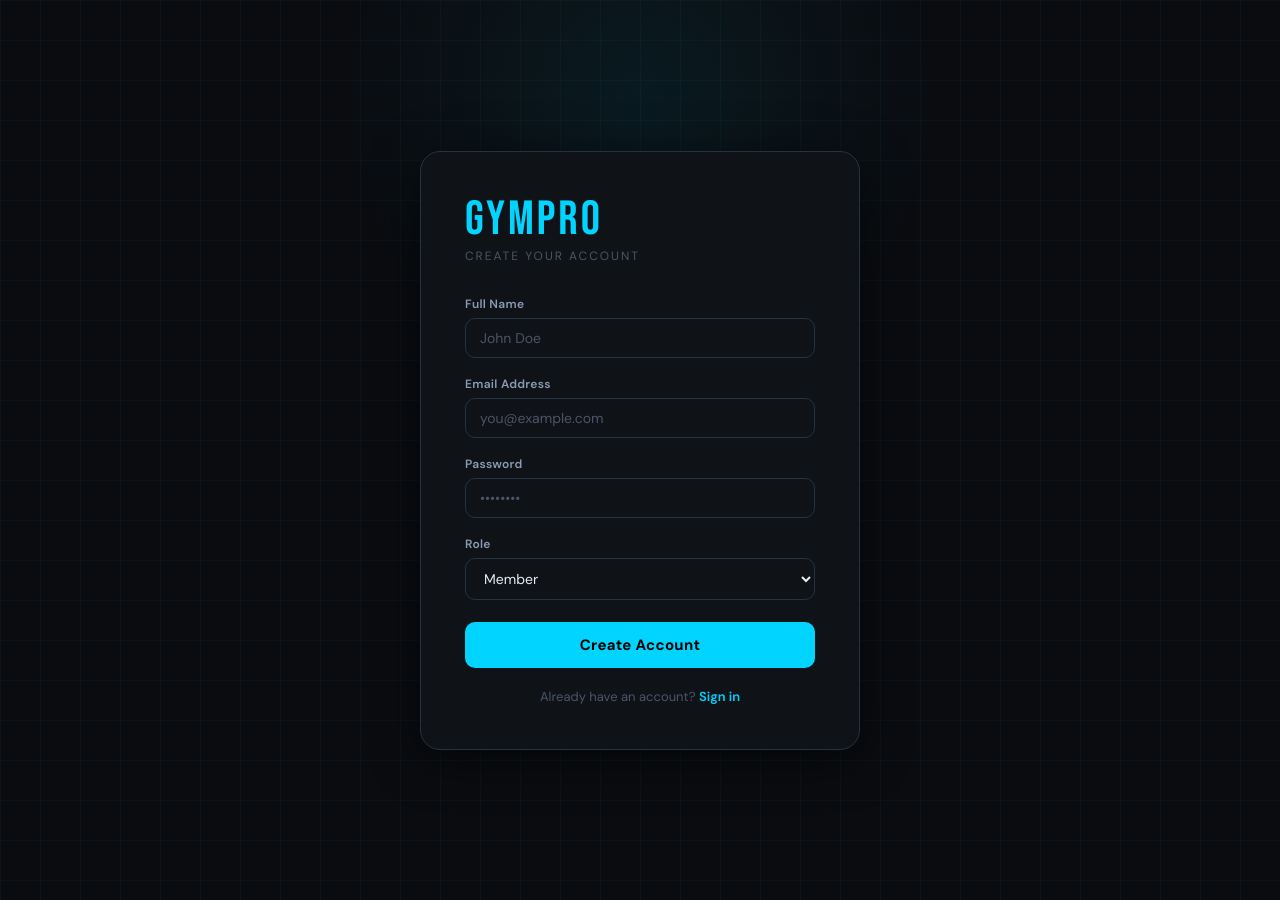
Test case: Register › shows success message on successful registration
The width and height of the screenshot is (1280, 900).
Type "Alice" into the field with placeholder "John Doe". click: (640, 338)
box: [465,318,815,358]
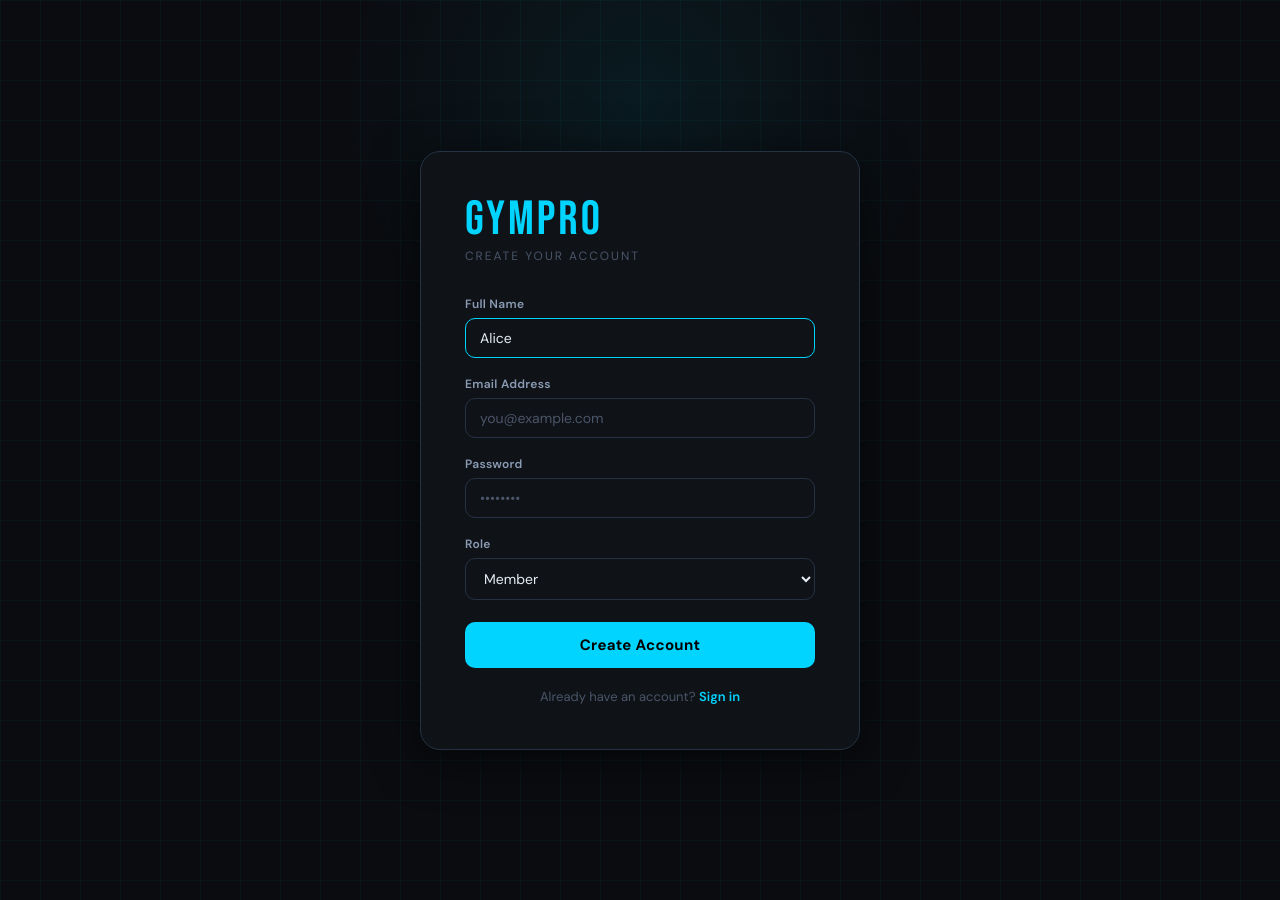
Type "alice@gym.com" into the field with placeholder "you@example.com". click: (640, 418)
box: [465,398,815,438]
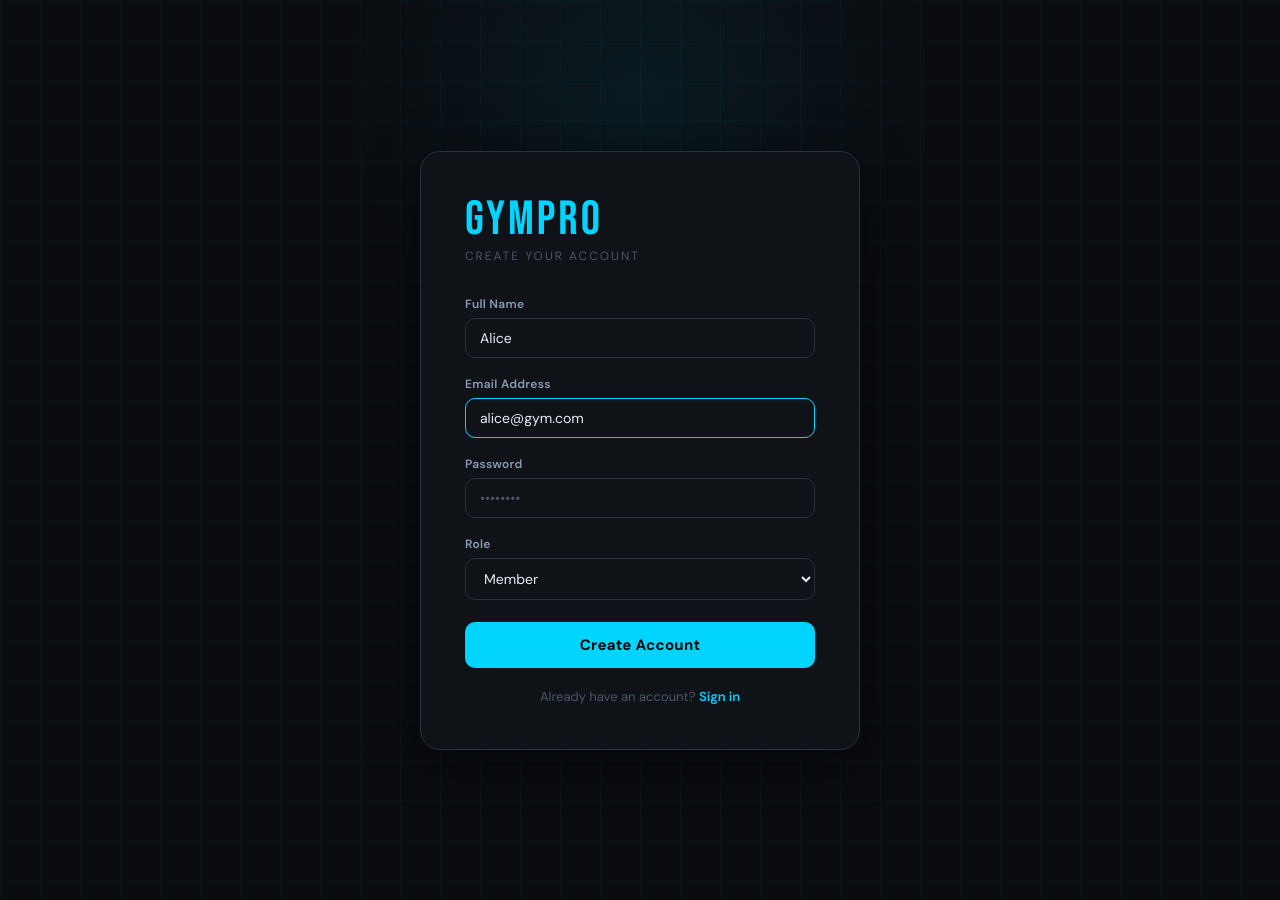
Type "pass123" into the password field with placeholder "••••••••". click: (640, 498)
box: [465,478,815,518]
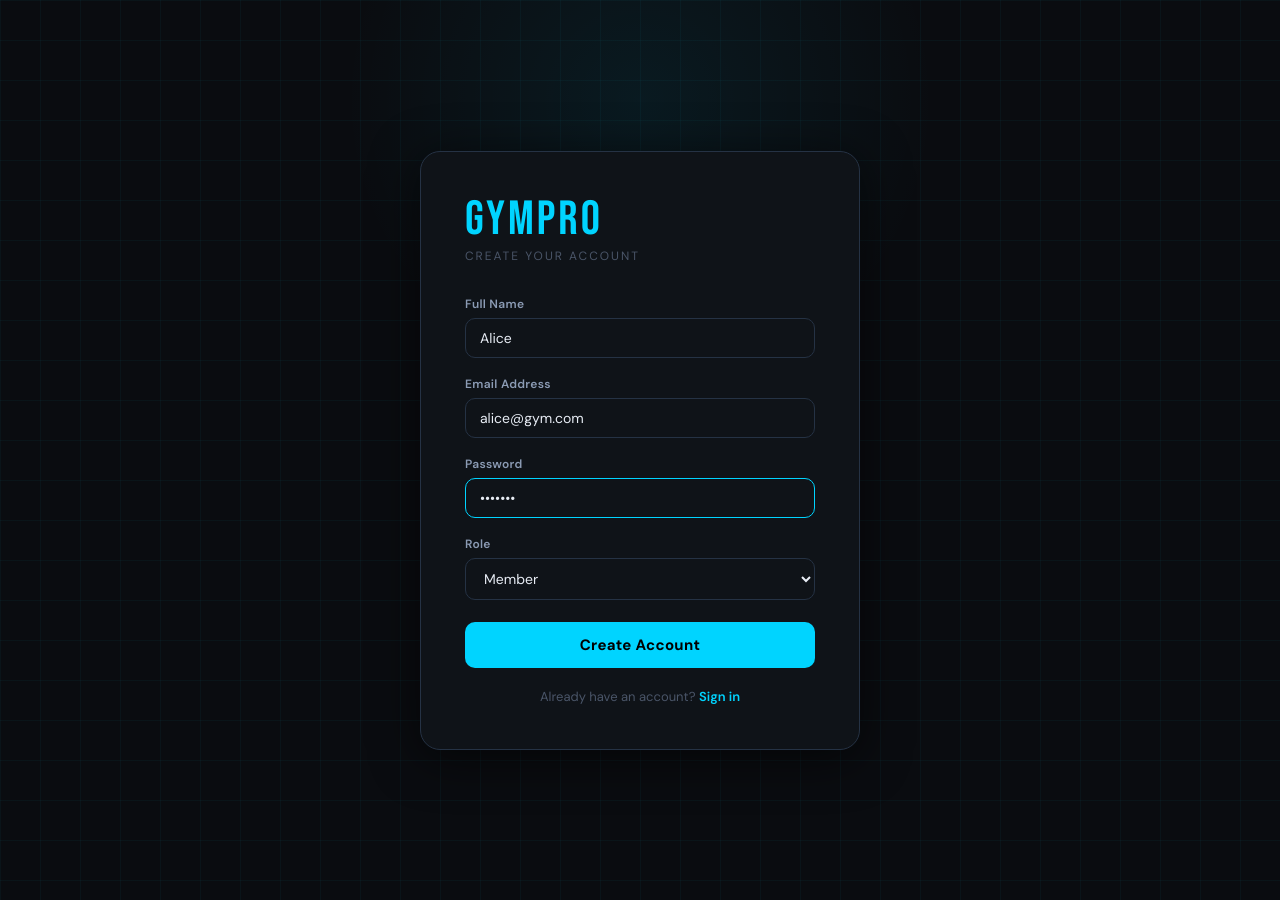
Click the button "Create Account". click: (640, 644)
box: [465,622,815,668]
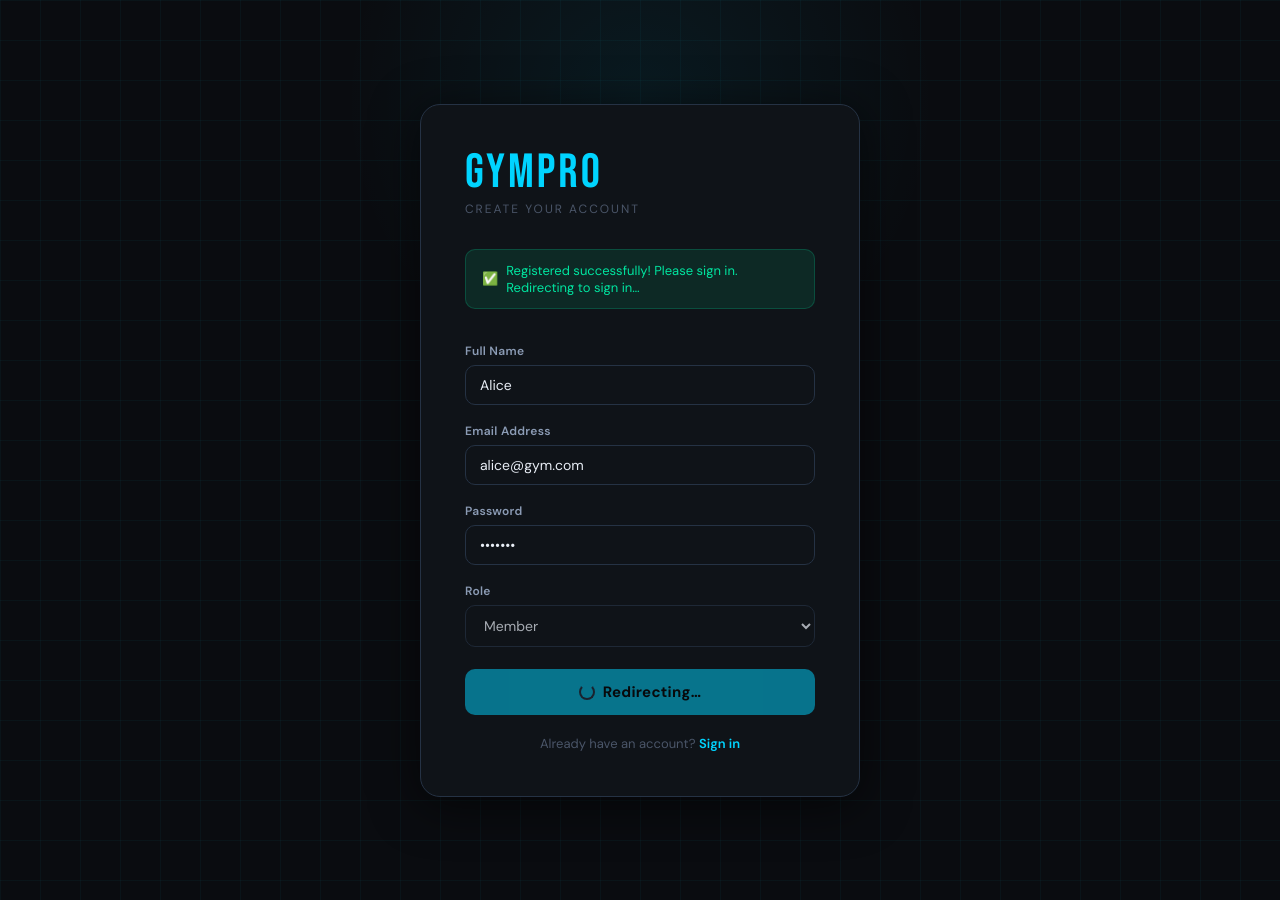
Expected: the text "Registered successfully" is shown, [506,262,738,278]
